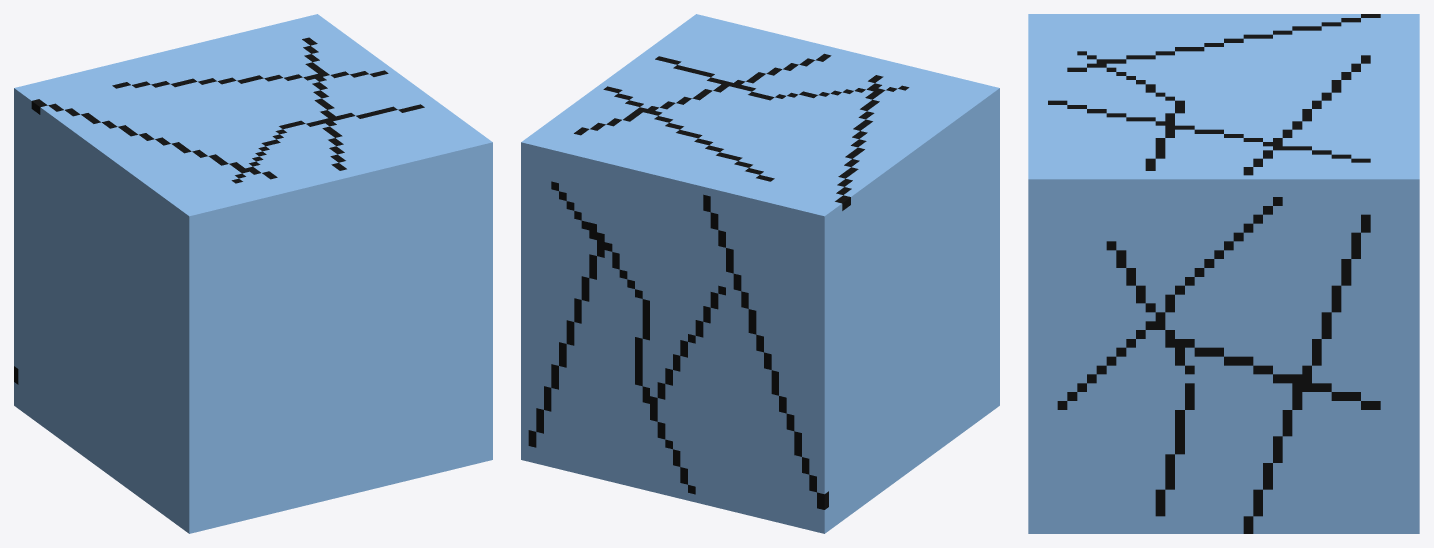
The model's file is break2.glb.
The picture shows the model from 3 angles, left to right: view 1: azimuth 30°, elevation 25°; view 2: azimuth 150°, elevation 25°; view 3: azimuth 270°, elevation 25°; orthographic projection. The views are drawn at different scales.
Parts seen in each view (by area): view 1: Untitled; view 2: Untitled; view 3: Untitled.
Part boxes in pixels (x1,y1,x2,y2): Untitled: (14,14,492,533); Untitled: (521,14,999,533); Untitled: (1028,14,1419,533).
Bounding box in the file's own units: 4 × 4 × 4.
1 material, 1 textured.
